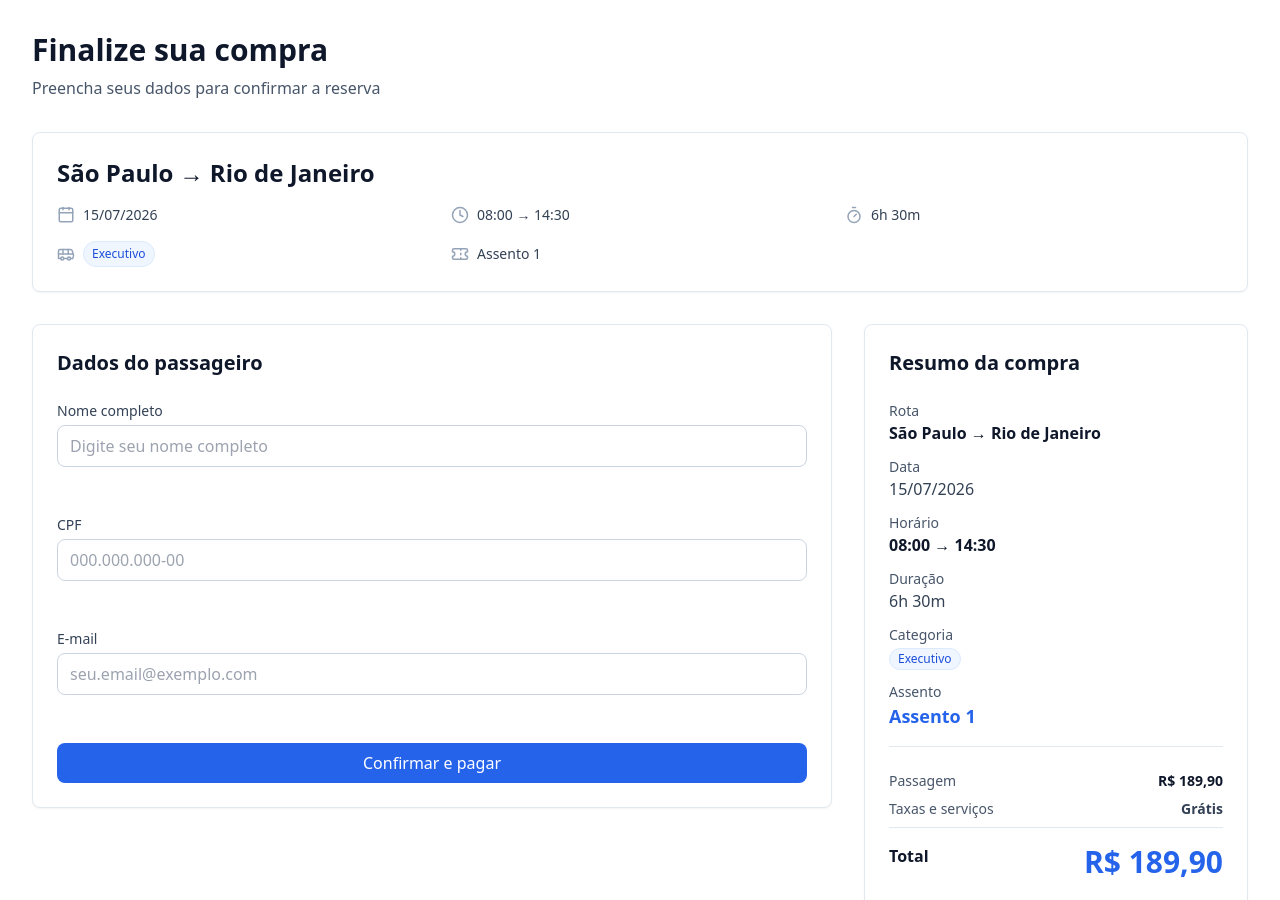
it: CheckoutPage › validates invalid CPF and email
This screenshot has width=1280, height=900.
Type "Teste" into the field labelled "Nome completo" at coordinates (432, 446), box [57,425,807,467]
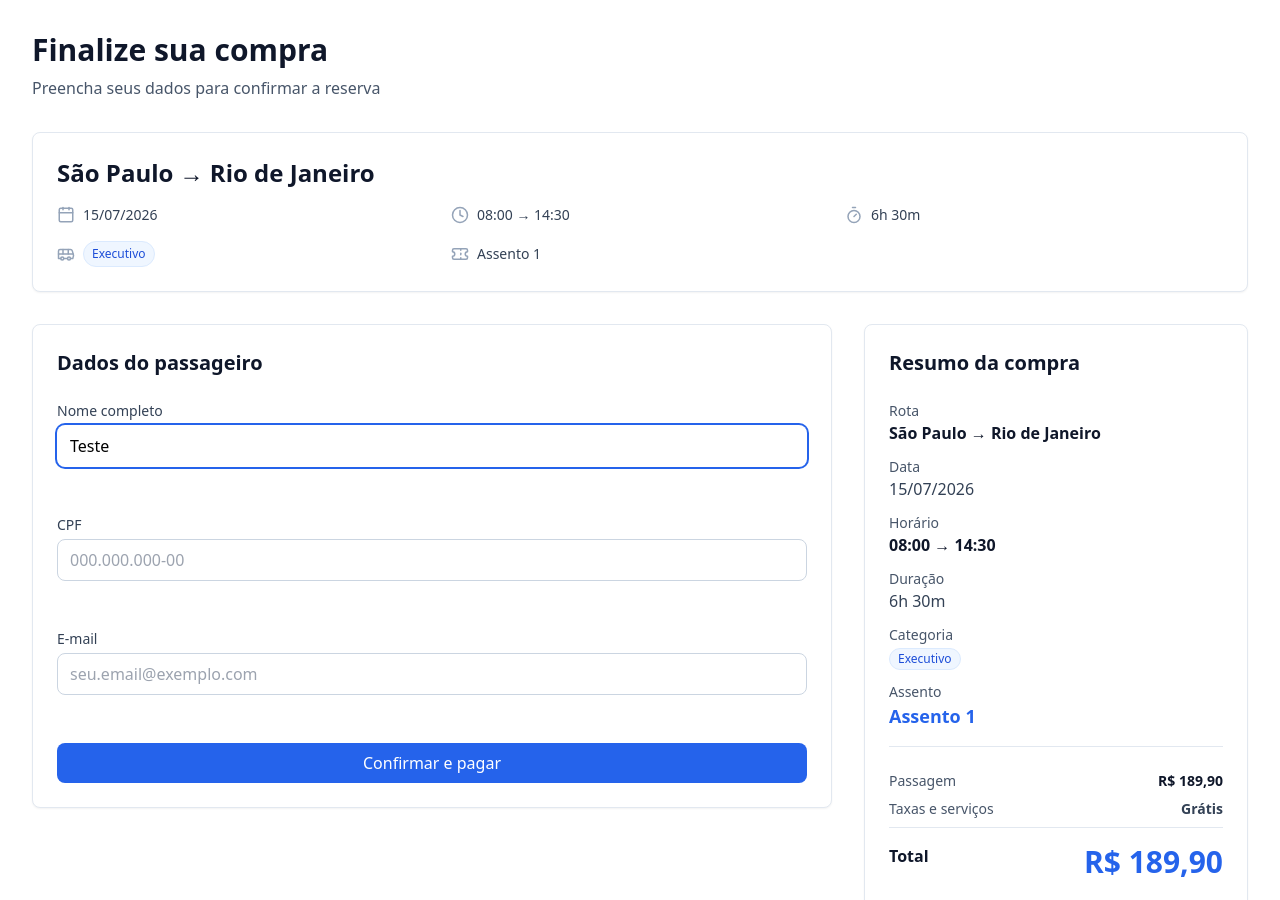
Type "123" into the field labelled "CPF" at coordinates (432, 560), box [57,539,807,581]
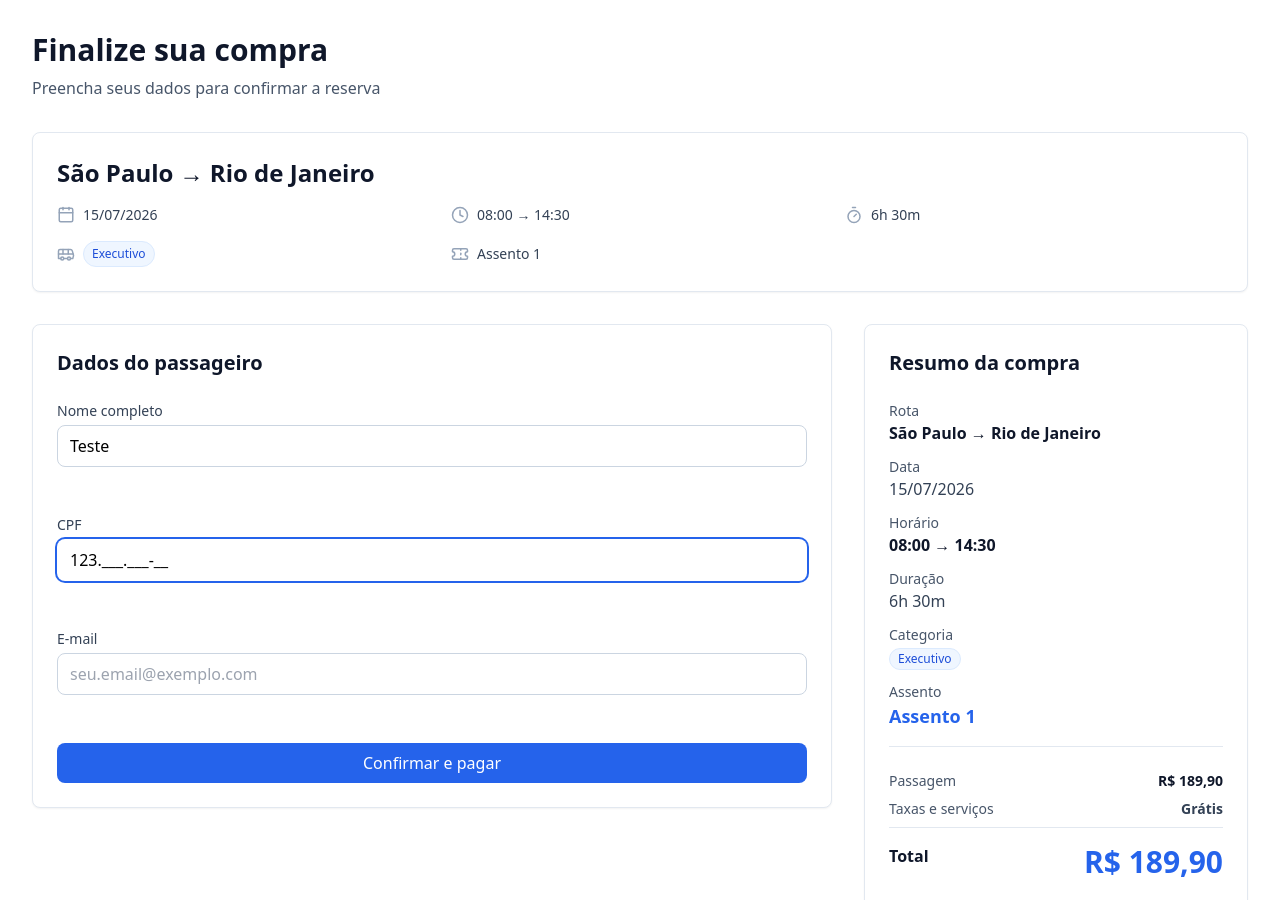
Type "invalid-email" into the field labelled "E-mail" at coordinates (432, 674), box [57,653,807,695]
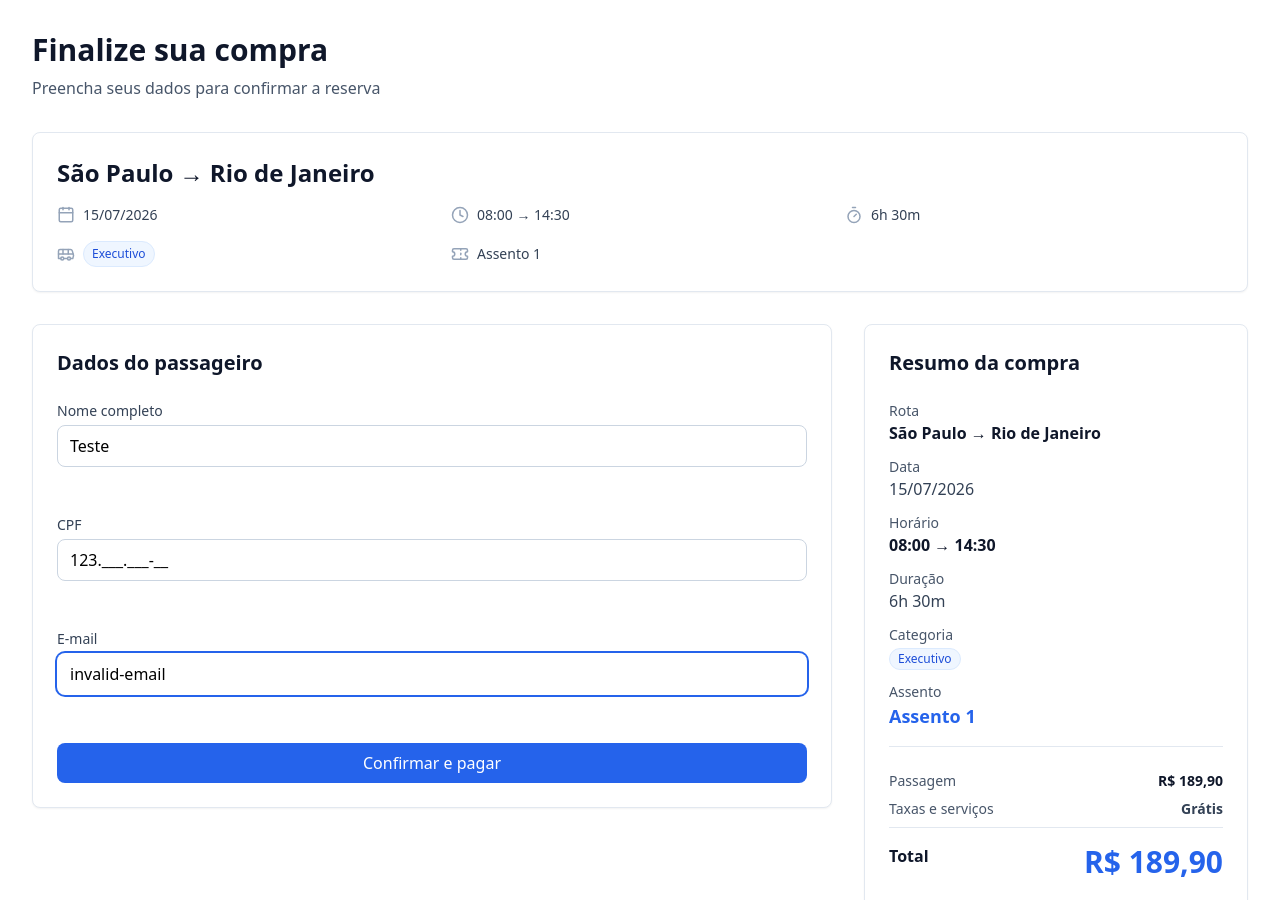
Click the button "Confirmar e pagar" at coordinates (432, 763), box [57,743,807,783]
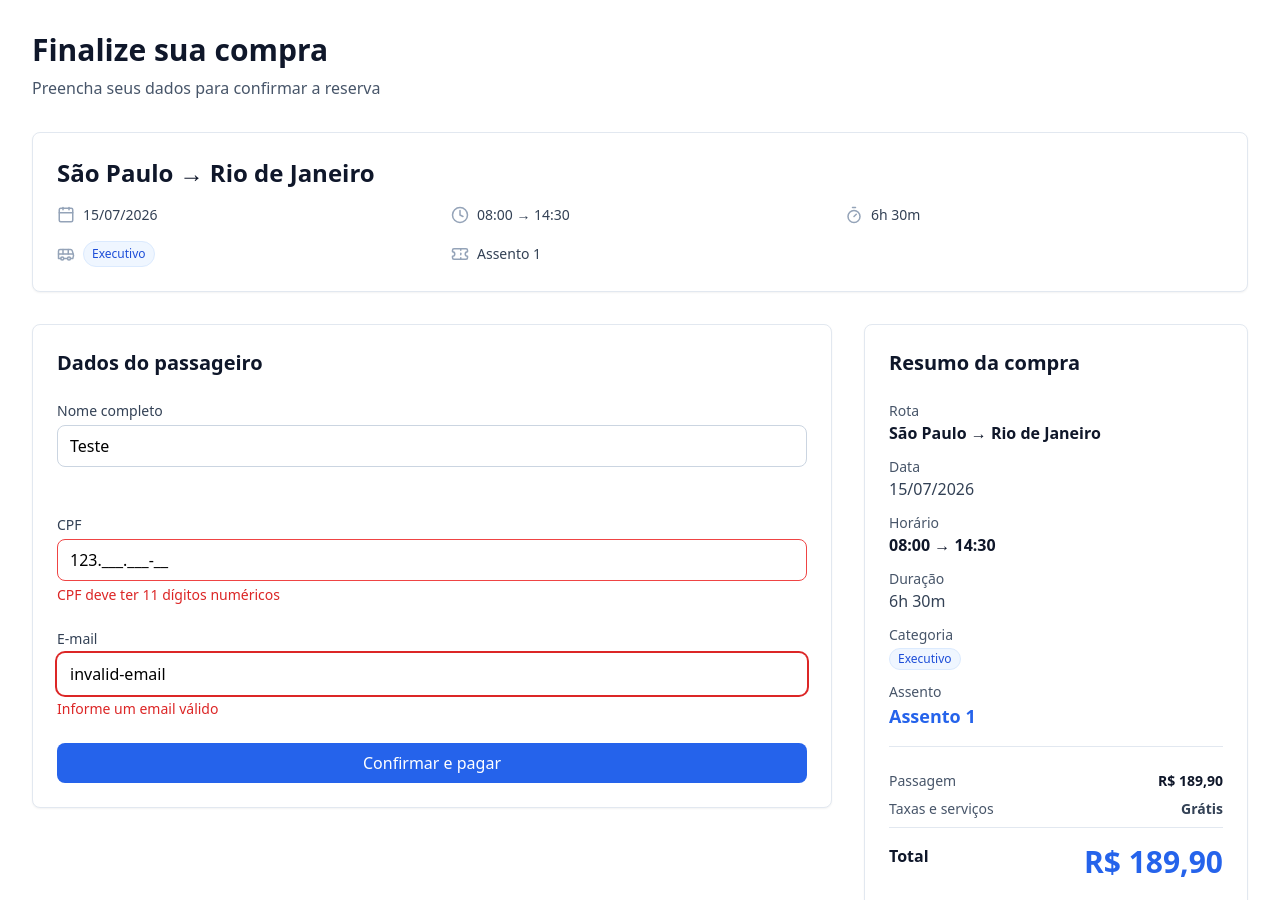
Check: the text "CPF deve ter 11 dígitos numéricos" is shown, box [57,585,280,604]
Check: the text "Informe um email válido" is shown, box [57,699,218,718]
